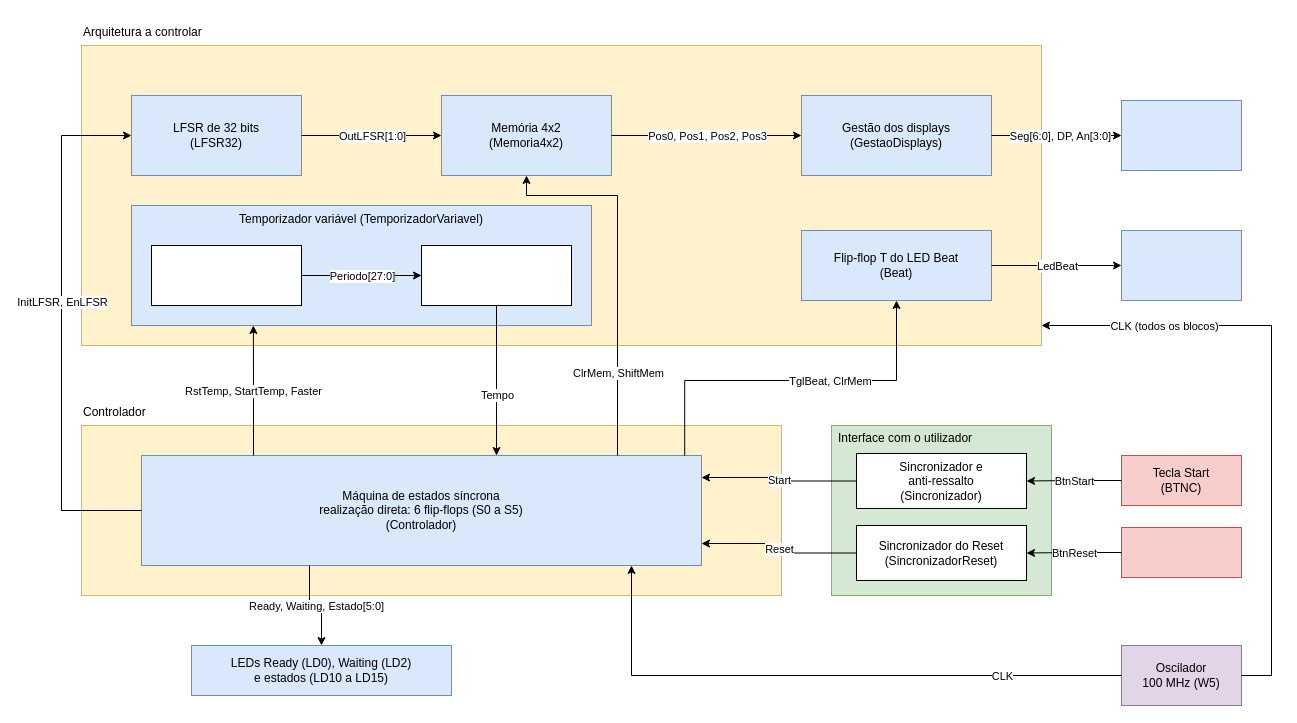
The diagram is 1297 pixels wide and 723 high, and some of its shapes have lost their labels. The centre of each missing label's shape, as x and y in pixels:
"4 displays de 7 segmentos" belongs at point 1181,135.
"LED Beat (LD1)" belongs at point 1181,265.
"Registo da velocidade (Velocidade)" belongs at point 226,275.
"Tecla Reset (BTNU)" belongs at point 1181,552.
"Temporizador (Temporizador)" belongs at point 496,275.
